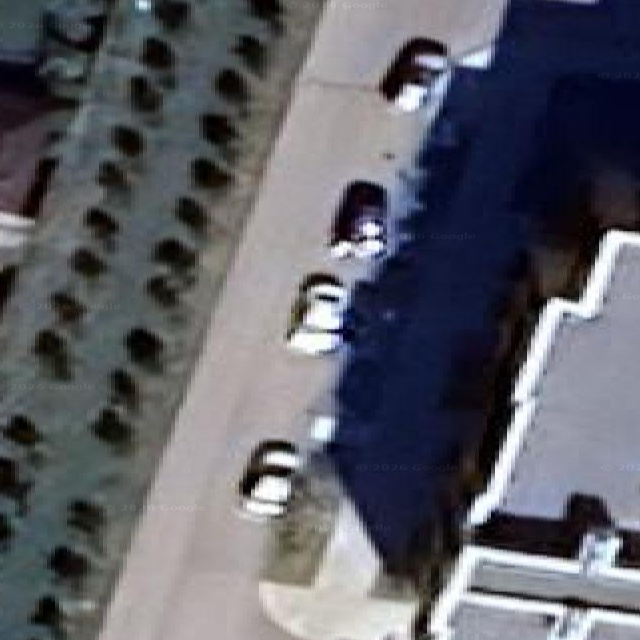car: (39, 0, 108, 99), (380, 37, 447, 111), (287, 273, 347, 353), (240, 440, 299, 519), (328, 180, 386, 256), (42, 0, 107, 51), (577, 527, 620, 572), (40, 55, 88, 94), (455, 45, 493, 68), (312, 413, 335, 444), (135, 0, 151, 11)
